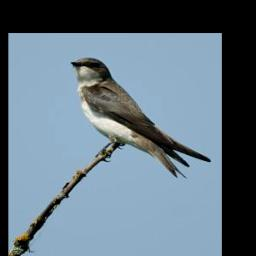Swallow: (69, 57, 211, 179)
